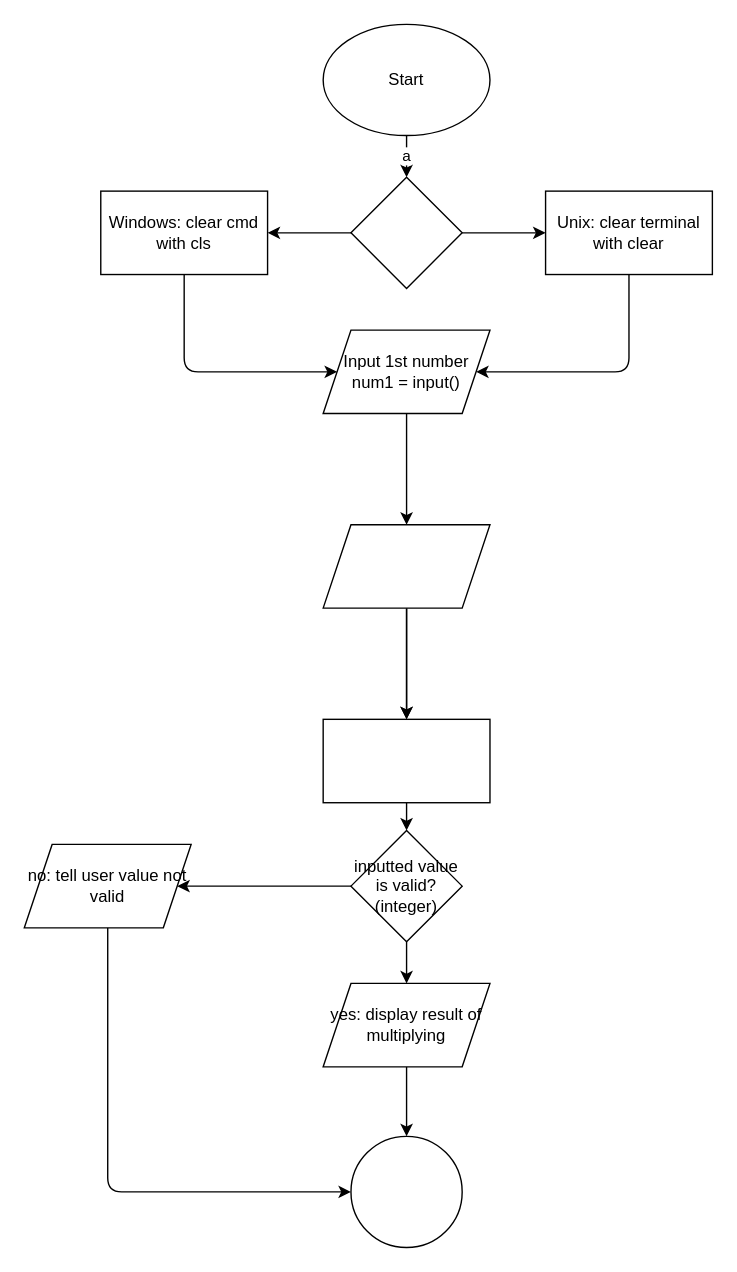
This 737x1272 diagram has some shape labels left out. Each missing label, with the box of its shape:
end: (350, 1135, 462, 1248)
Input 2nd number num2 = input(): (322, 523, 490, 608)
is on OS...?: (350, 176, 462, 288)
multiply both numbers result = num1 + num2: (322, 718, 490, 803)
